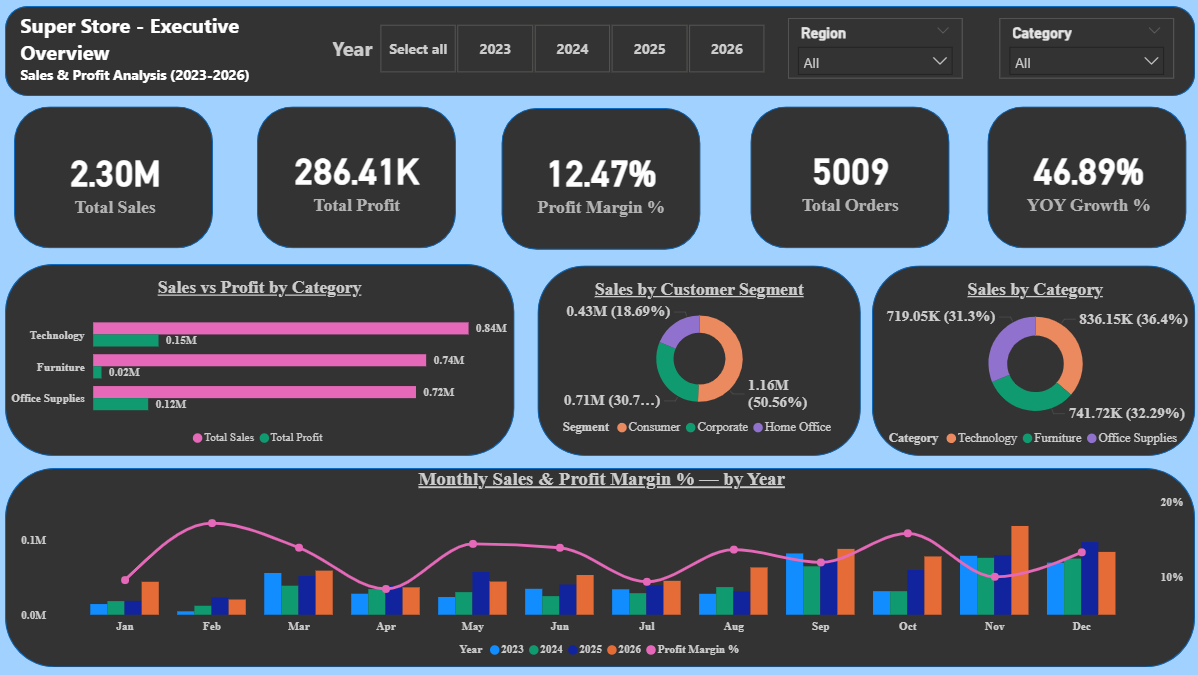

The dashboard page shown, as its layout file describes it:
{"tool":"powerbi","page":{"name":"Executive Overview","canvas":[1280,720],"ordinal":0},"visuals":[{"type":"shape","box":[9.4,9.4,1259.4,95.3],"z":0},{"type":"textbox","box":[20.3,9.4,268.8,95.3],"z":1000},{"type":"slicer","fields":{"Values":["DimDate.Year"]},"box":[381.2,21.9,456.2,64.1],"z":2000},{"type":"textbox","box":[351.6,32.8,60.9,50],"z":3000},{"type":"slicer","fields":{"Values":["fact_sales.Region"]},"box":[837.5,21.9,184.4,64.1],"z":4000},{"type":"slicer","fields":{"Values":["fact_sales.Category"]},"box":[1062.5,21.9,184.4,64.1],"z":5000},{"type":"shape","box":[19.7,116.6,210.5,149.9],"z":6000},{"type":"card","fields":{"Values":["Measure.Total Sales"]},"box":[33.3,131.7,184.7,122.7],"z":7000},{"type":"shape","box":[534.5,118.1,210.5,149.9],"z":8000},{"type":"shape","box":[275.6,116.6,210.5,149.9],"z":9000},{"type":"shape","box":[798,116.6,210.5,149.9],"z":10000},{"type":"shape","box":[1049.3,116.6,210.5,149.9],"z":11000},{"type":"card","fields":{"Values":["Measure.Total Profit"]},"box":[289.2,130.2,184.7,122.7],"z":12000},{"type":"card","fields":{"Values":["Measure.Profit Margin %"]},"box":[548.1,131.7,184.7,122.7],"z":13000},{"type":"card","fields":{"Values":["Measure.Total Orders"]},"box":[811.6,130.2,184.7,122.7],"z":14000},{"type":"card","fields":{"Values":["Measure.YOY Growth %"]},"box":[1063,130.2,184.7,122.7],"z":15000},{"type":"shape","box":[9.4,282.8,539.1,203.1],"z":16000},{"type":"clusteredBarChart","title":"Sales vs Profit by Category","fields":{"Category":["fact_sales.Category"],"Y":["Measure.Total Sales","Measure.Total Profit"]},"box":[9.3,297.3,538.7,188],"z":17000},{"type":"shape","box":[573.4,284.4,342.2,201.6],"z":18000},{"type":"shape","box":[926.6,284.4,342.2,201.6],"z":19000},{"type":"donutChart","title":"Sales by Customer Segment","fields":{"Category":["fact_sales.Segment"],"Y":["Measure.Total Sales"]},"box":[573.4,298.4,342.2,176.6],"z":20000},{"type":"donutChart","title":"Sales by Category","fields":{"Y":["Measure.Total Sales"],"Category":["fact_sales.Category"]},"box":[929.7,298.4,339.1,187.5],"z":21000},{"type":"shape","box":[9.4,498.4,1259.4,210.9],"z":22000},{"type":"lineClusteredColumnComboChart","title":"Monthly Sales & Profit Margin % — by Year","fields":{"Y":["Measure.Total Sales"],"Y2":["Measure.Profit Margin %"],"Series":["DimDate.Year"],"Category":["DimDate.MonthName"]},"box":[20.3,498.4,1240.6,210.9],"z":23000}]}

Visuals, with their boxes in screenshot pixels (x1, y1, x2, y2), scaled from the page's 1280x720 canvas onto the 1198x675 screenshot:
shape: (left=9, top=9, right=1188, bottom=98)
textbox: (left=19, top=9, right=271, bottom=98)
slicer - DimDate.Year: (left=357, top=21, right=784, bottom=81)
textbox: (left=329, top=31, right=386, bottom=78)
slicer - fact_sales.Region: (left=784, top=21, right=956, bottom=81)
slicer - fact_sales.Category: (left=994, top=21, right=1167, bottom=81)
shape: (left=18, top=109, right=215, bottom=250)
card - Measure.Total Sales: (left=31, top=123, right=204, bottom=238)
shape: (left=500, top=111, right=697, bottom=251)
shape: (left=258, top=109, right=455, bottom=250)
shape: (left=747, top=109, right=944, bottom=250)
shape: (left=982, top=109, right=1179, bottom=250)
card - Measure.Total Profit: (left=271, top=122, right=444, bottom=237)
card - Measure.Profit Margin %: (left=513, top=123, right=686, bottom=238)
card - Measure.Total Orders: (left=760, top=122, right=932, bottom=237)
card - Measure.YOY Growth %: (left=995, top=122, right=1168, bottom=237)
shape: (left=9, top=265, right=513, bottom=456)
"Sales vs Profit by Category" clusteredBarChart: (left=9, top=279, right=513, bottom=455)
shape: (left=537, top=267, right=857, bottom=456)
shape: (left=867, top=267, right=1188, bottom=456)
"Sales by Customer Segment" donutChart: (left=537, top=280, right=857, bottom=445)
"Sales by Category" donutChart: (left=870, top=280, right=1188, bottom=456)
shape: (left=9, top=467, right=1188, bottom=665)
"Monthly Sales & Profit Margin % — by Year" lineClusteredColumnComboChart: (left=19, top=467, right=1180, bottom=665)
